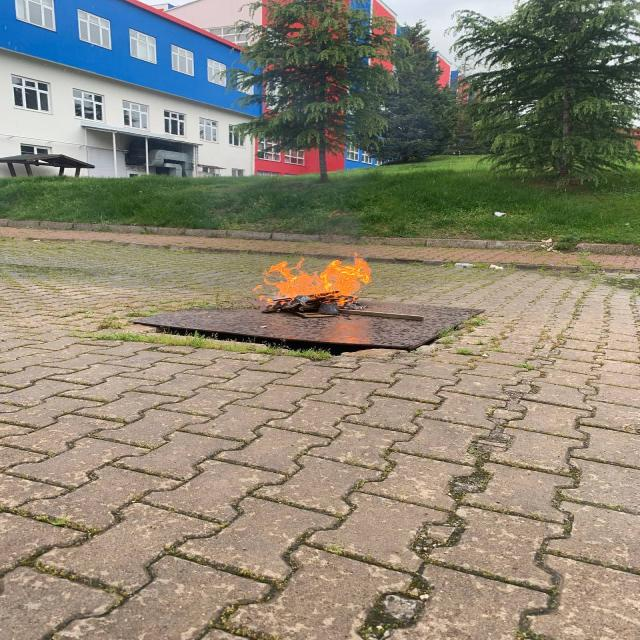fire: (242, 257, 379, 313)
